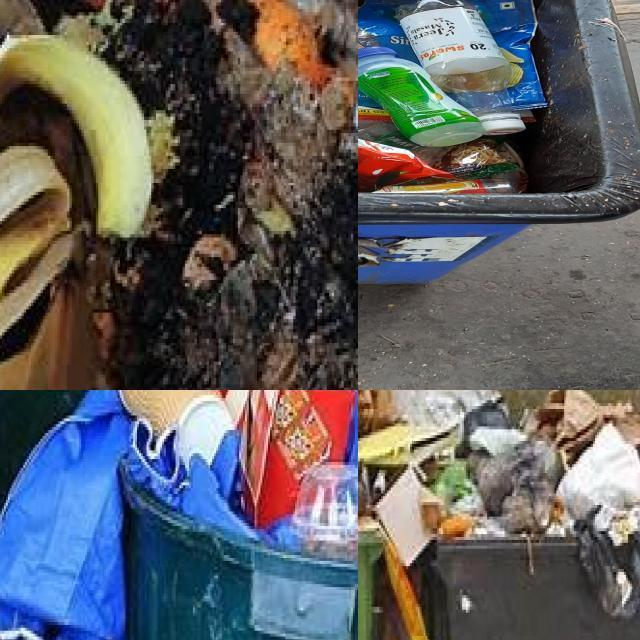Garbage: (0, 390, 358, 640), (358, 0, 544, 193), (558, 425, 640, 519)
Plastic_bottle: (396, 0, 525, 135), (358, 46, 484, 146), (293, 464, 358, 559)
Plastic_wraper: (464, 0, 547, 110), (358, 0, 418, 61), (437, 139, 519, 180)
Tetrapack: (222, 390, 355, 525)
